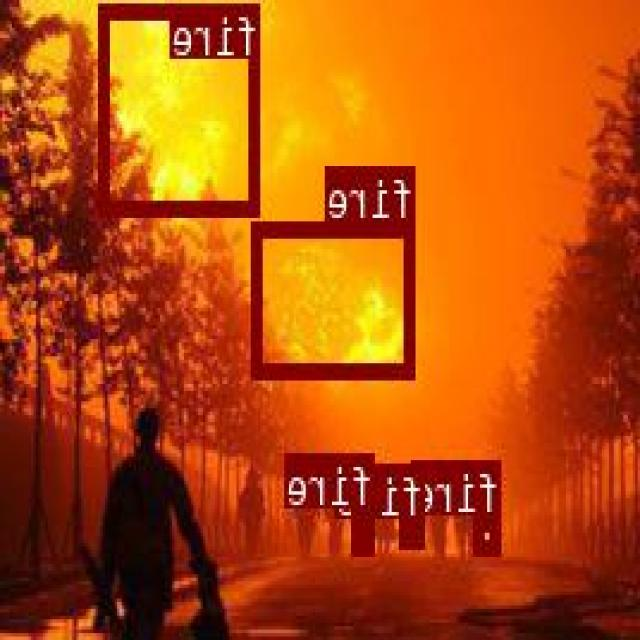fire: (102, 1, 262, 212), (253, 220, 418, 375), (356, 507, 377, 552), (477, 515, 502, 551), (402, 516, 425, 546)
